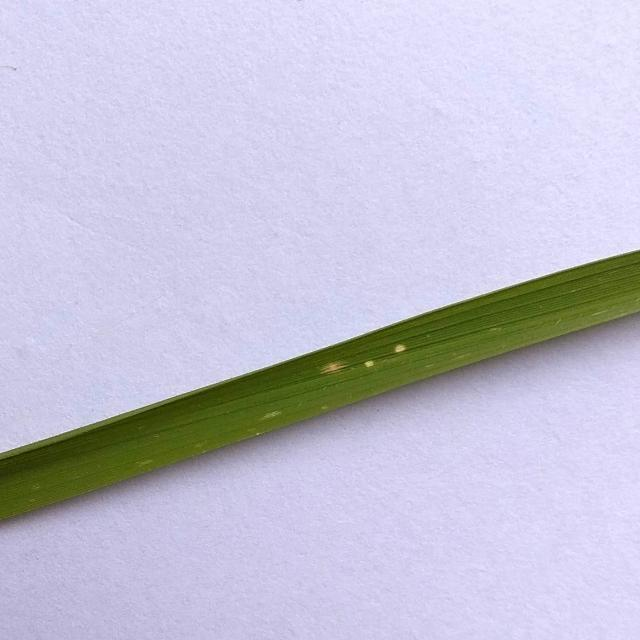Blast: (322, 356, 342, 376), (394, 342, 414, 360), (361, 353, 374, 371)
